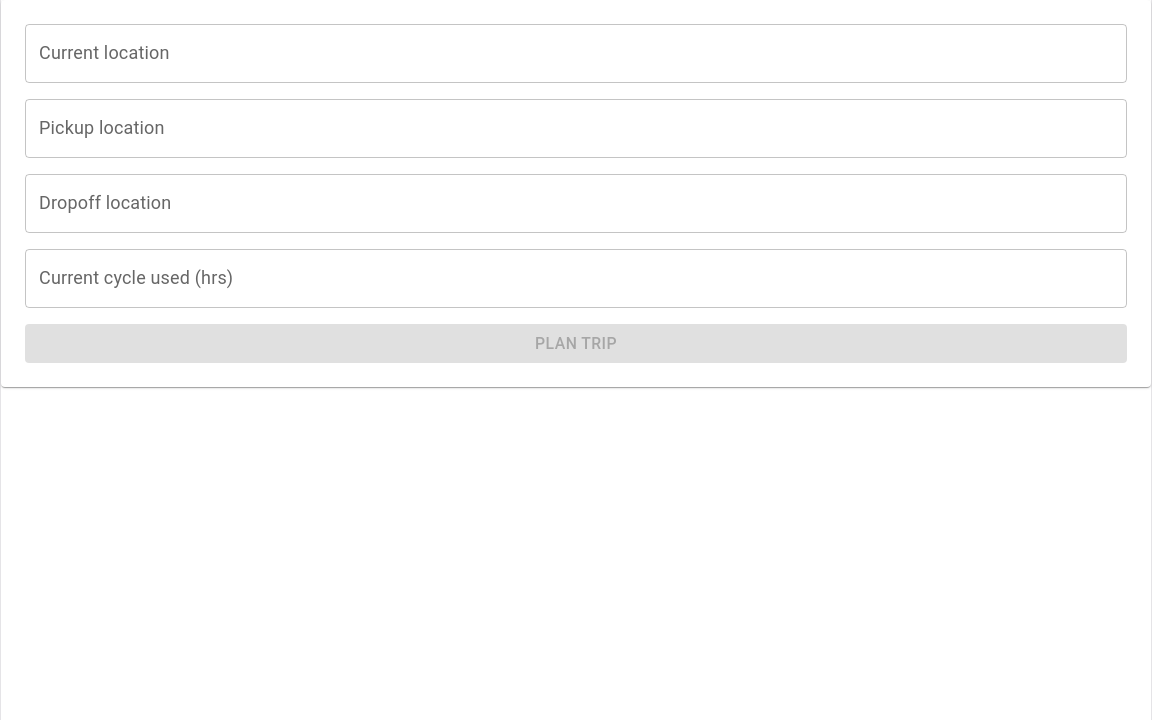
Test: blocks submission when pickup and dropoff locations match
Type "Chicago, IL" into the field labelled "Pickup location" at x=576, y=128, box [25,99,1127,158]
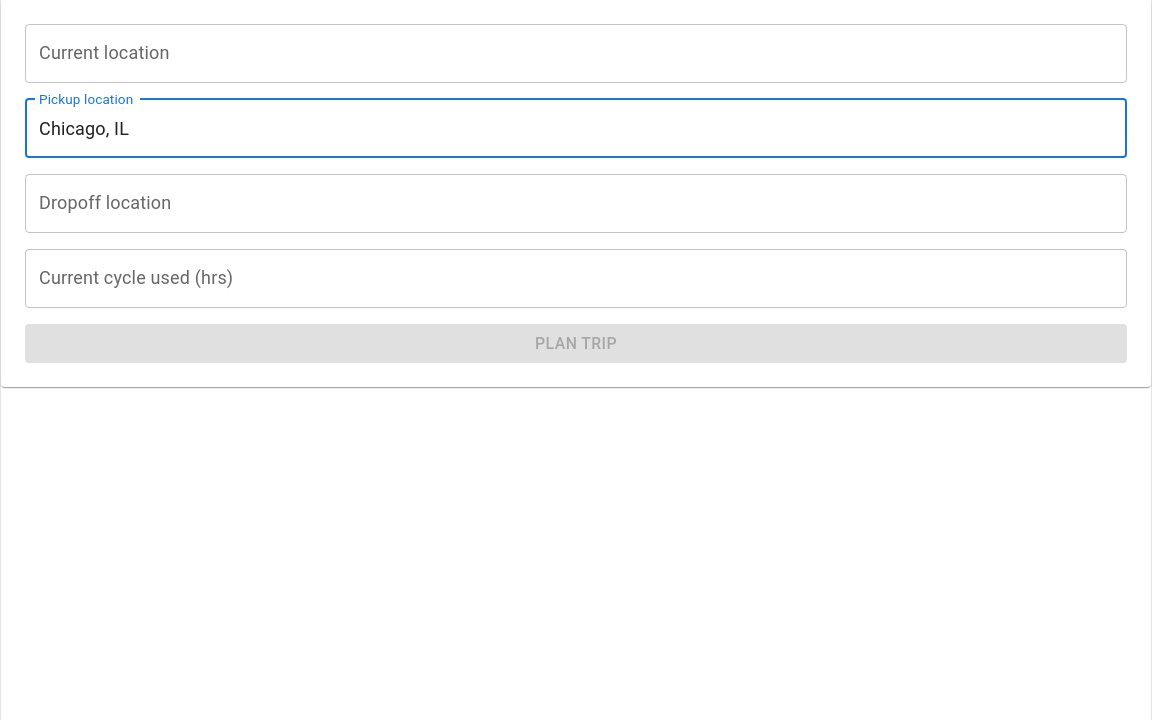
Type "chicago, il" into the field labelled "Dropoff location" at x=576, y=203, box [25,174,1127,233]
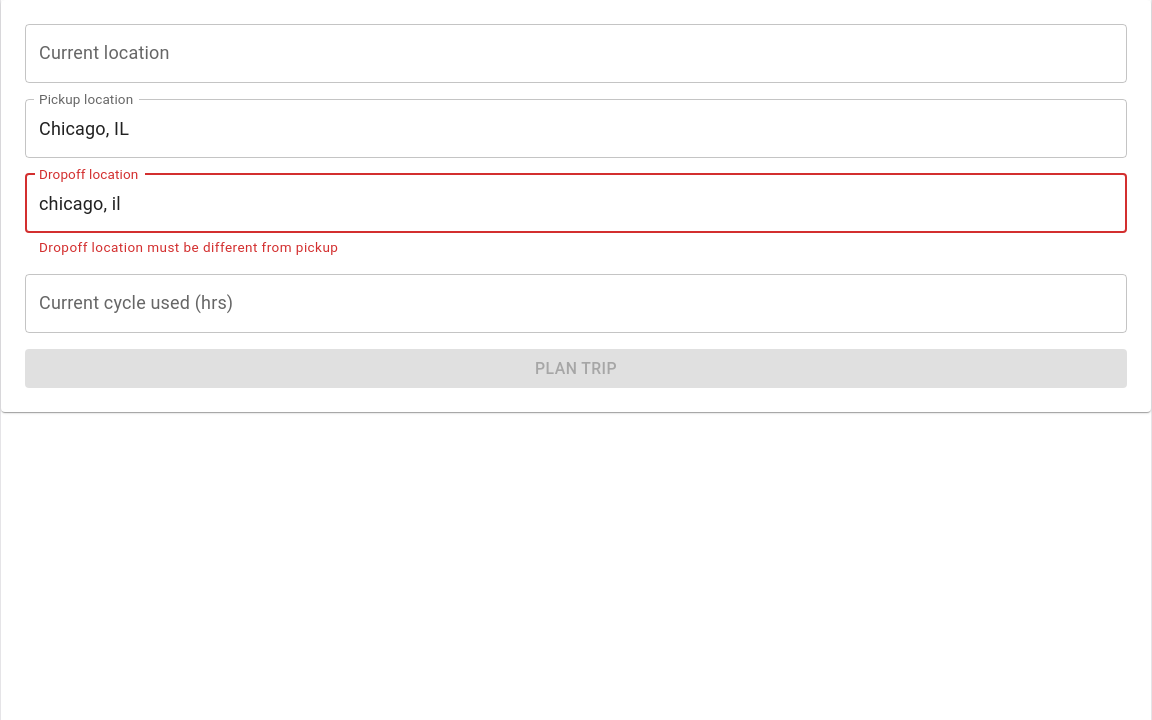
Check: the button "Plan trip" is disabled, box [25,349,1127,388]
Check: the text "Dropoff location must be different from pickup" is shown, box [39,239,338,255]
